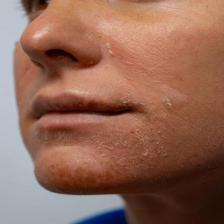Dry: (16, 0, 224, 182)
